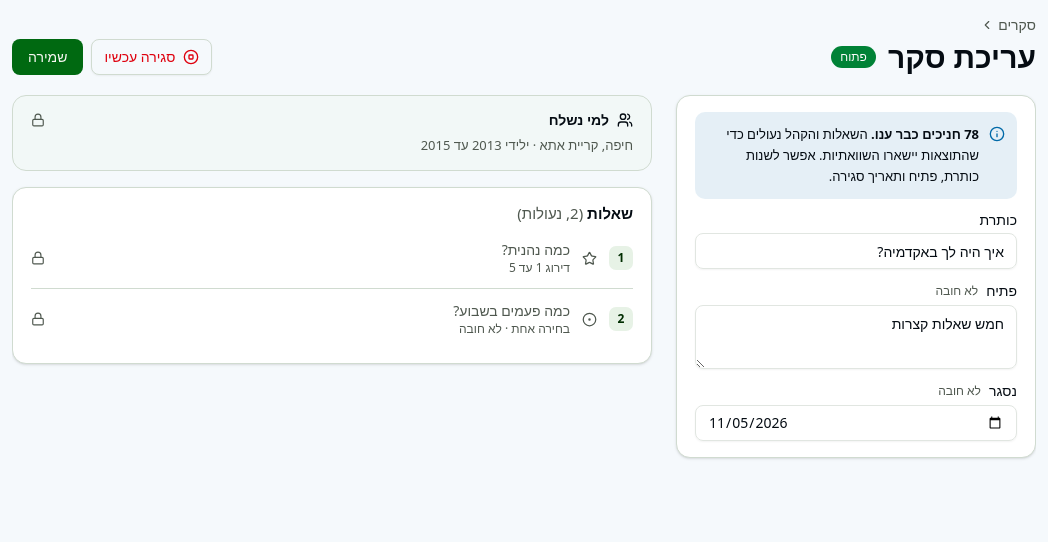
Test: LockedSurveyEditor: saving the details › a refusal is shown and nothing is refreshed
The width and height of the screenshot is (1048, 542).
Click the button "שמירה" at (48, 57), box [12,39,83,75]
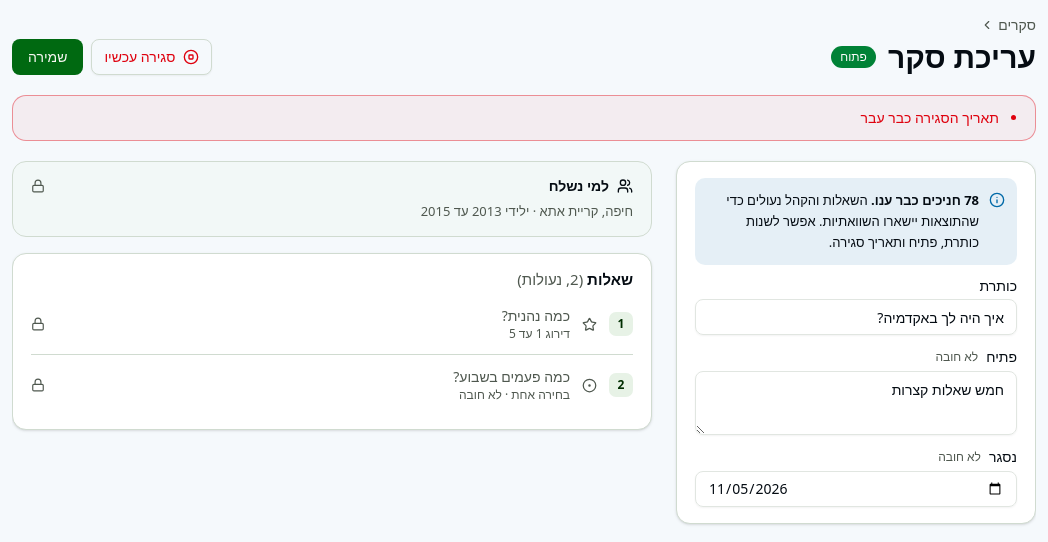
Expected: the message reads "תאריך הסגירה כבר עבר", [860,108,999,127]
